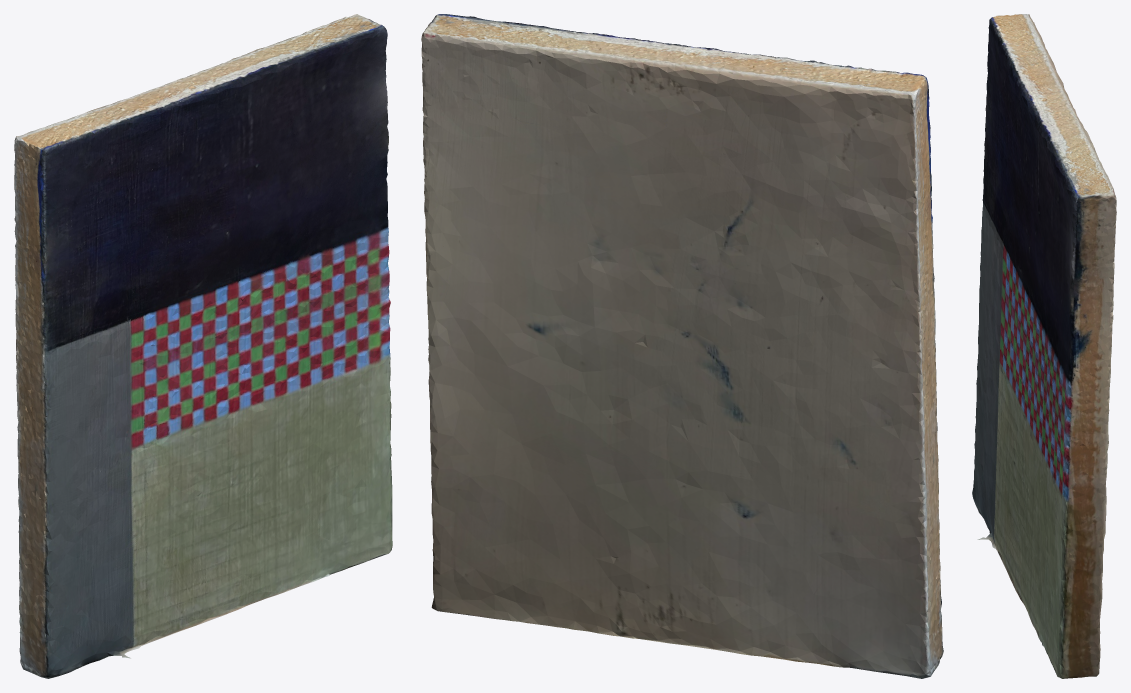
The model's file is painting-2.glb.
3 views of the same model, side by side, from view 1: azimuth 30°, elevation 25°; view 2: azimuth 150°, elevation 25°; view 3: azimuth 270°, elevation 25° (orthographic). The views are drawn at different scales.
Bounding box in the file's own units: 0.1423 × 0.1773 × 0.0477.
1 material, 1 textured.
